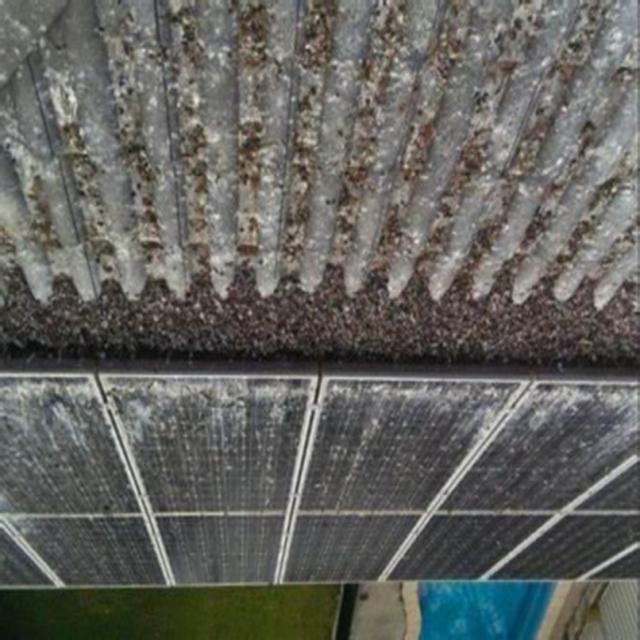soiled: (0, 358, 638, 517)
